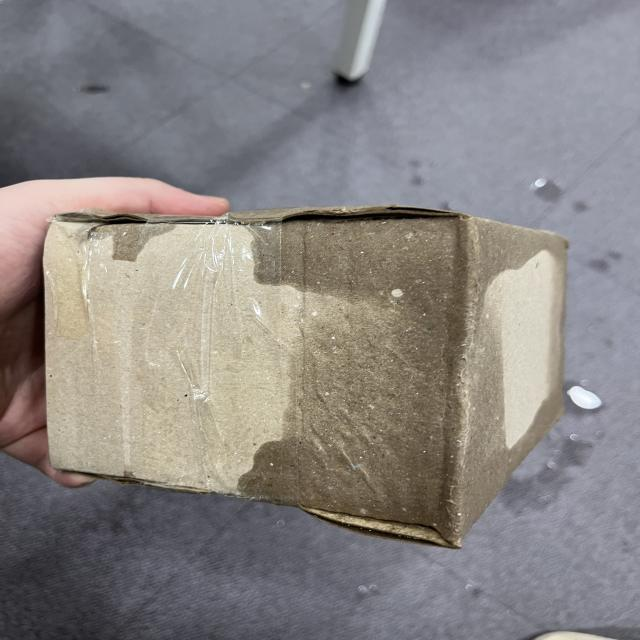wet: (248, 208, 500, 550)
